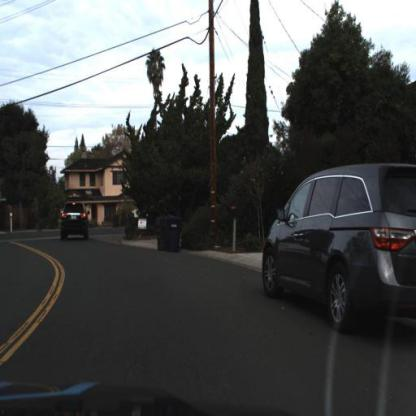car: (258, 154, 416, 336), (58, 199, 93, 245)
